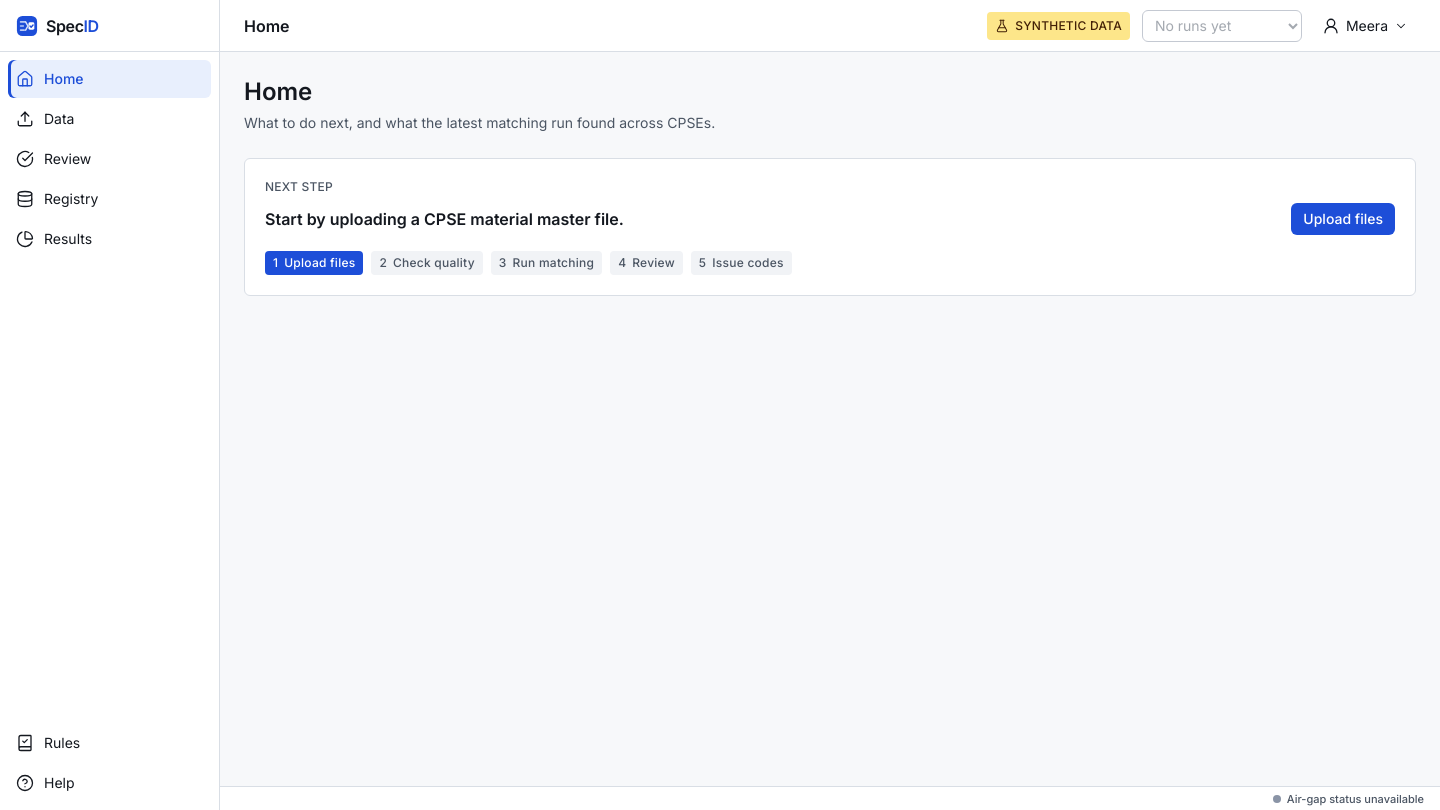
Test case: user menu (App Flow 3.3) › shows name, role and CPSE; Change password; Logout clears the token
Press Enter in the button "Meera", box [1314,10,1416,42]
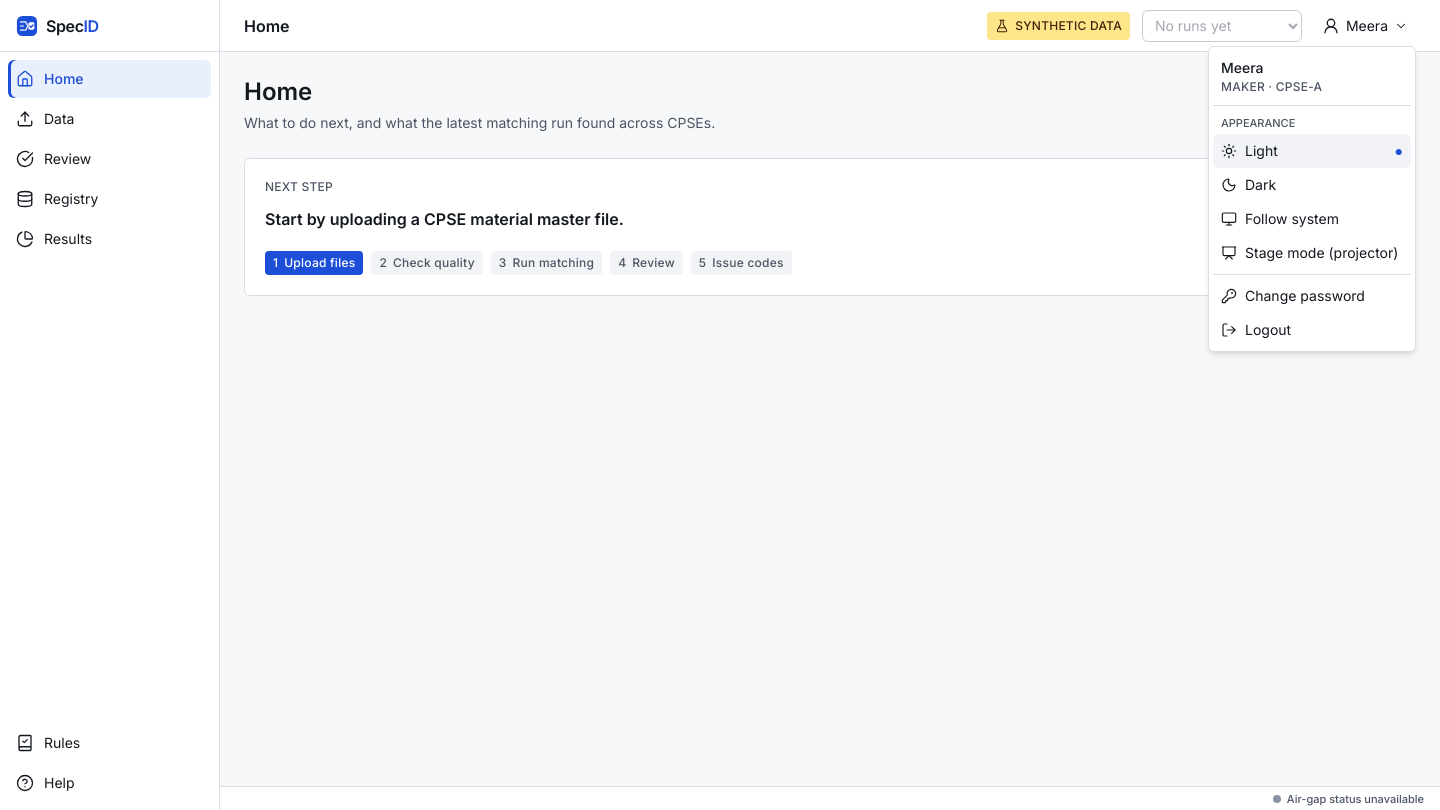
Now the menu shows "Meera", box [1221,59,1264,76]
Now the menu shows "MAKER · CPSE-A", box [1208,46,1416,352]
Now the menu item "Change password" is shown, box [1221,287,1365,304]
Click the menu item "Logout": point(1256, 330) [1221,321,1291,338]
(page scrolled)
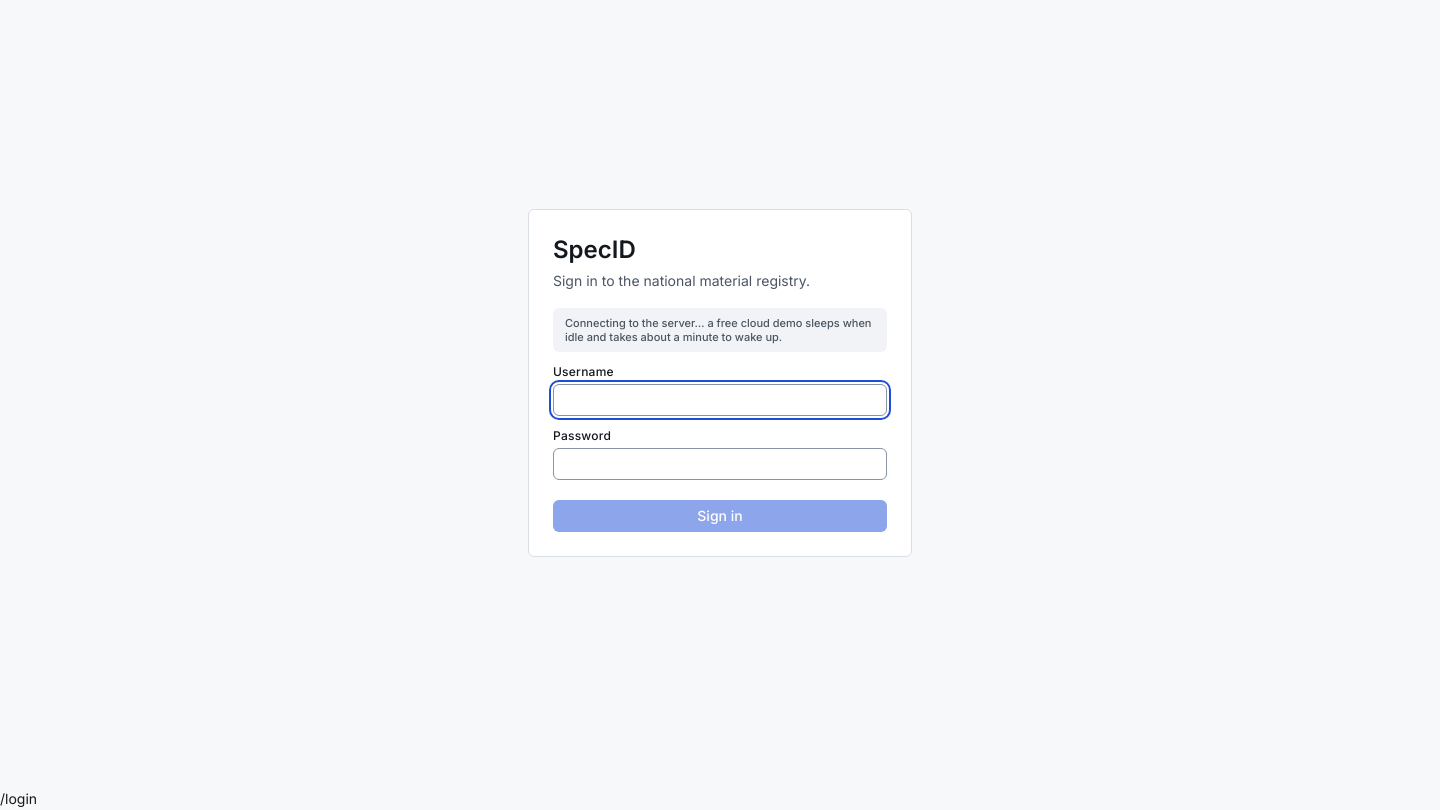
Now the text with test id "location" reads "/login", box [0,790,37,807]
